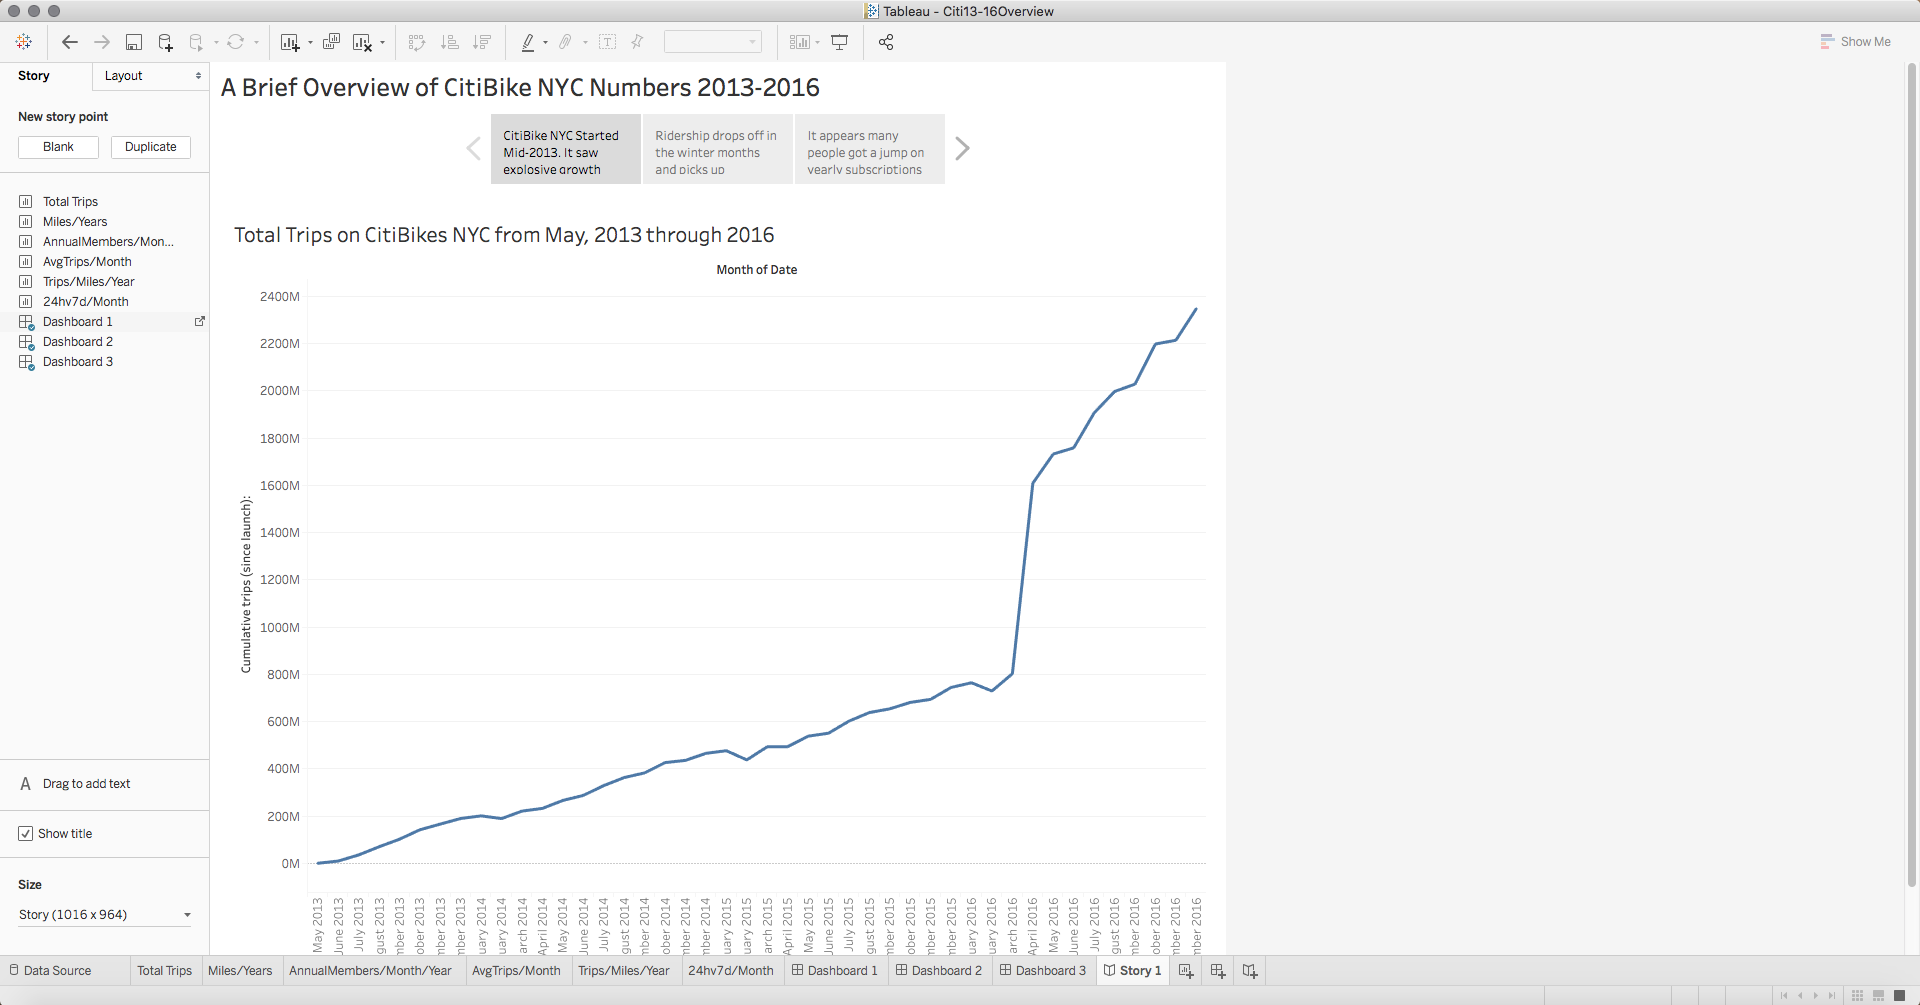

Layout of this report page (visuals, bound fields, positions):
{"tool":"tableau","page":{"name":"Dashboard 1","canvas":[1000,800],"ordinal":0},"visuals":[{"type":"worksheet","title":"Total Trips","mark":"Automatic","cols":["Date"],"box":[8,8,984,784]}]}

Visuals, with their boxes on the page's 1000x800 design canvas (x1, y1, x2, y2). These are canvas units, not pixel positions in the 1920x1005 screenshot, which may show the page scaled, cropped or inside an application window:
"Total Trips" worksheet: 8 8 992 792
